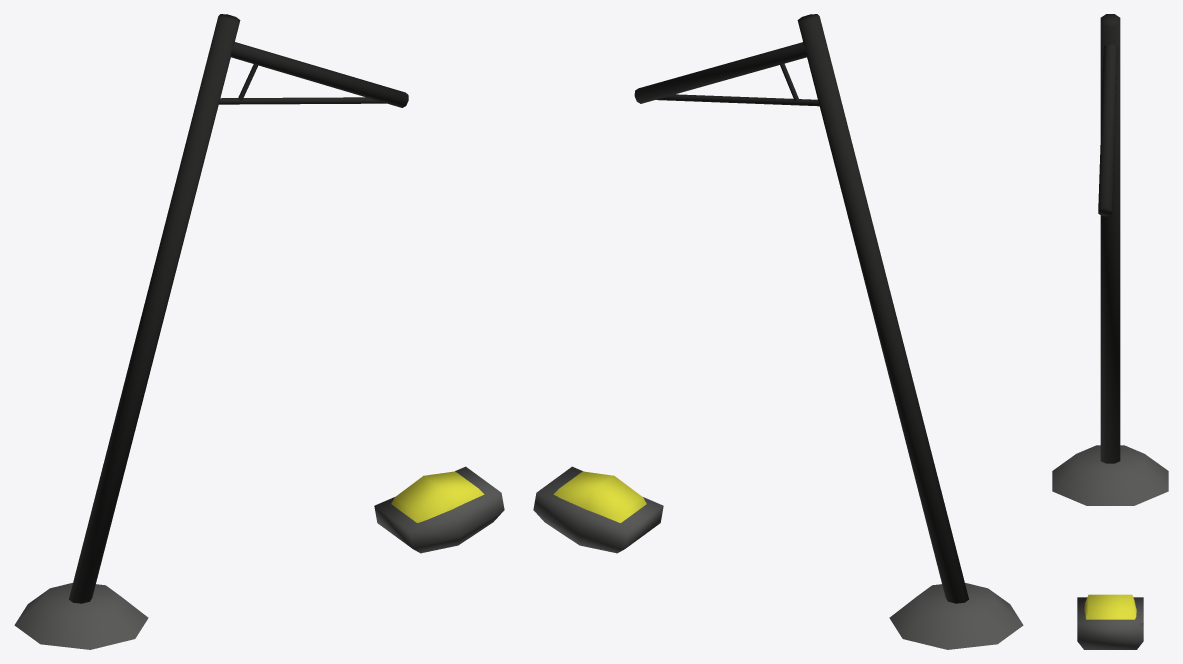
Rendered from broken_lamp_post.fbx.
3 renders of one model, left to right at view 1: azimuth 30°, elevation 25°; view 2: azimuth 150°, elevation 25°; view 3: azimuth 270°, elevation 25°, orthographic. The views are drawn at different scales.
Parts seen in each view (by area): view 1: broken_lamp_post; view 2: broken_lamp_post; view 3: broken_lamp_post.
Part boxes in pixels (box(x1,y1,x2,y2)): broken_lamp_post: box(14, 14, 504, 649); broken_lamp_post: box(533, 14, 1023, 649); broken_lamp_post: box(1052, 14, 1168, 649).
Size of the model in its own units: 890 by 1059 by 210.
